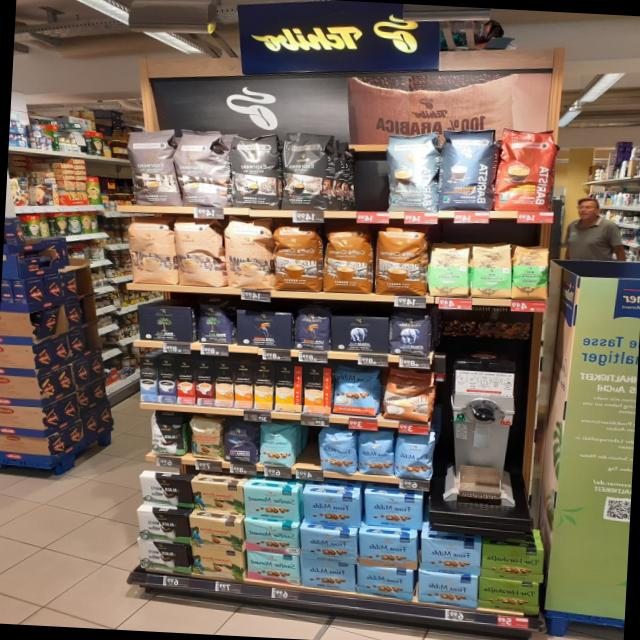AB Bohne: (388, 310, 433, 358)
AB Gemahlen: (330, 313, 390, 355)
Athiopien Bohne: (510, 242, 551, 302)
Athiopien Gemahlen: (469, 240, 514, 302), (427, 241, 473, 299)
BM Bohne: (197, 297, 237, 345)
BM Gemahlen: (137, 304, 192, 343)
BW Bohne: (148, 410, 190, 458)
BW Gemahlen: (136, 539, 192, 574), (138, 475, 195, 509), (136, 509, 191, 544)
Barista CC: (384, 128, 442, 215)
Barista Kolumbien: (492, 125, 562, 215), (438, 125, 500, 214)
C Fino Bohne: (222, 419, 260, 464)
CC Mild: (223, 215, 277, 290), (125, 215, 180, 287), (174, 217, 228, 288)
CC Vollmundig: (380, 367, 438, 423)
CC Vollmundig 36 Pads: (373, 224, 430, 298), (322, 221, 376, 297), (272, 222, 326, 294)
Colombia BB Bohne: (187, 414, 223, 460)
Colombia BB Gemahlen: (189, 516, 243, 552), (191, 545, 246, 578), (191, 481, 245, 514)
Espresso Kraftig: (279, 130, 338, 214)
Espresso M Art: (118, 124, 186, 210), (168, 126, 236, 210)
Espresso S Art: (228, 128, 283, 210)
FM 36 Pads: (331, 363, 383, 418)
FM Bohne: (393, 429, 437, 480), (315, 427, 359, 474), (356, 427, 395, 477)
FM Gemahlen: (418, 536, 484, 574), (417, 570, 479, 610), (355, 564, 415, 602), (364, 493, 423, 531), (358, 533, 418, 570), (302, 492, 361, 528), (300, 557, 357, 593), (300, 528, 358, 562)
Herzhatfe Mundig: (480, 544, 545, 583), (478, 577, 540, 614)
LG Bohne: (292, 304, 332, 352)
LG Gemahlen: (235, 309, 293, 349)
SM Bohne: (258, 421, 300, 468)
SM Gemahlen: (243, 485, 300, 523), (244, 520, 300, 556), (246, 550, 300, 586)
Simo CCMild: (274, 363, 304, 412)
Simo CCMild bigpack: (252, 362, 276, 411)
Simo CCVollmundig: (302, 364, 335, 415)
Simo CCVollmundig bigpack: (233, 361, 257, 409)
Simo Decaff: (214, 360, 236, 408)
Simo Es Elegant: (175, 358, 197, 406)
Simo Es Kraft: (194, 359, 217, 406)
Simo Kaffee Kraft: (156, 358, 178, 403)
Simo Kaffee Mild: (136, 356, 158, 404)
